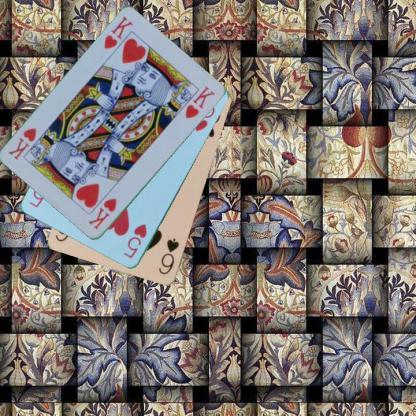5h: (121, 221, 148, 260)
6s: (156, 236, 181, 276)
Kh: (101, 14, 135, 51), (85, 194, 118, 231)
